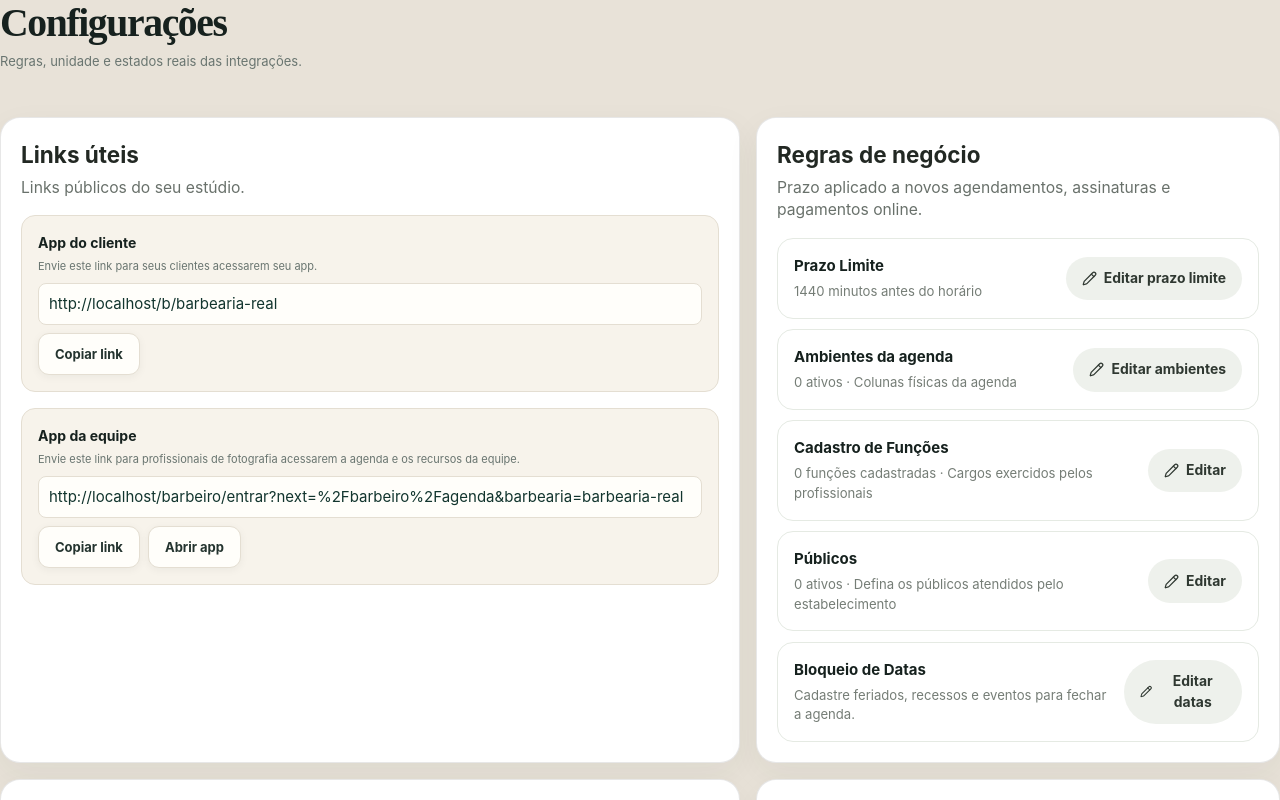
Test: connected manager UI › abre calendário anual de Bloqueio de Datas nas Regras de negócio
Click the button with aria-label "Editar datas bloqueadas" at (1183, 692), box [1124, 660, 1242, 724]
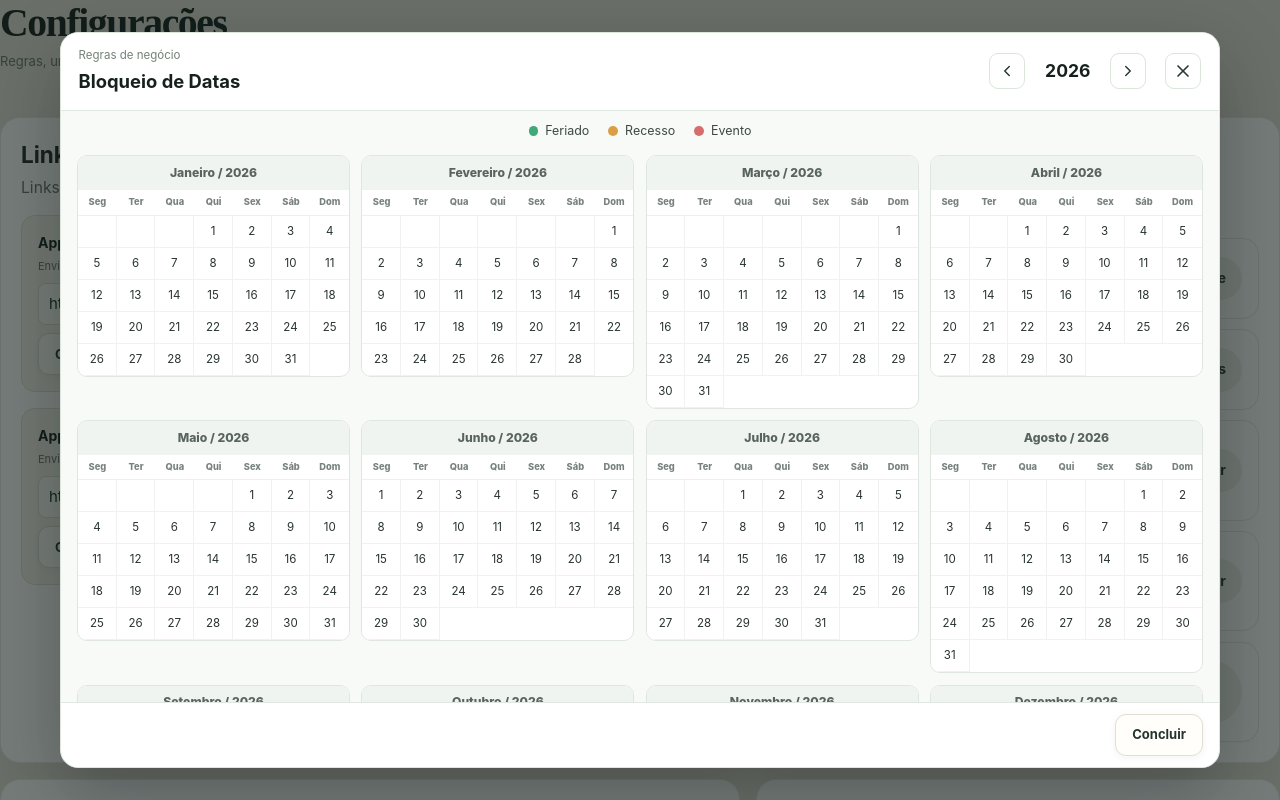
Expected: the button named "Ano anterior" is shown, [989, 53, 1025, 89]
Expected: the button named "Próximo ano" is shown, [1110, 53, 1146, 89]
